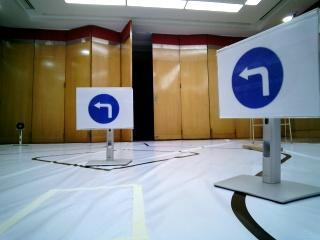left: (222, 40, 313, 120), (79, 87, 133, 125)
